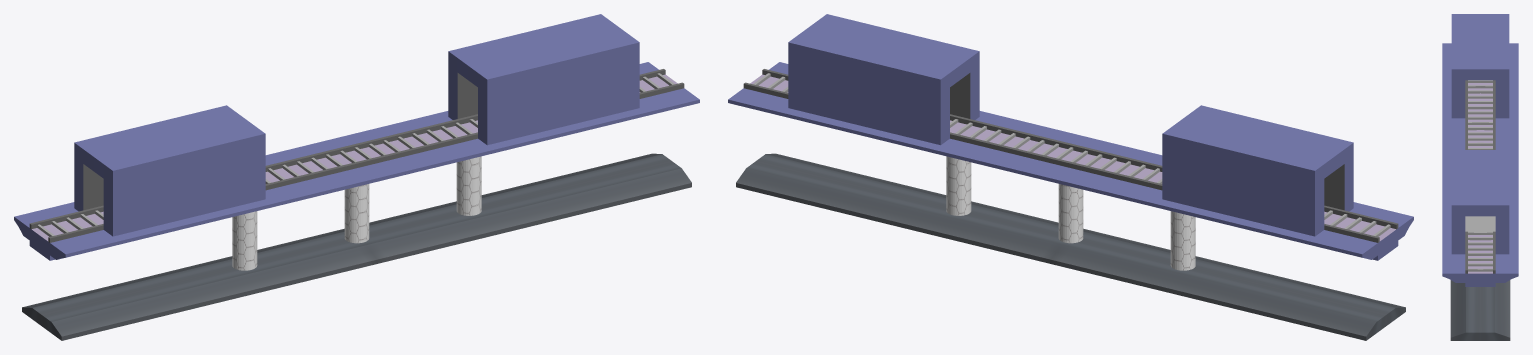
File: 0_1_TrainRails_1.fbx
The picture shows the model from 3 angles, left to right: view 1: azimuth 30°, elevation 25°; view 2: azimuth 150°, elevation 25°; view 3: azimuth 270°, elevation 25°; orthographic projection. The views are drawn at different scales.
Parts seen in each view (by area): view 1: 0_1_TrainRails_1; view 2: 0_1_TrainRails_1; view 3: 0_1_TrainRails_1.
Boxes of the visible parts, box(x1,y1,x2,y2) form: 0_1_TrainRails_1: box(14, 14, 699, 340); 0_1_TrainRails_1: box(728, 14, 1413, 340); 0_1_TrainRails_1: box(1442, 14, 1518, 340).
Bounding box in the file's own units: 5931 × 1403 × 833.
